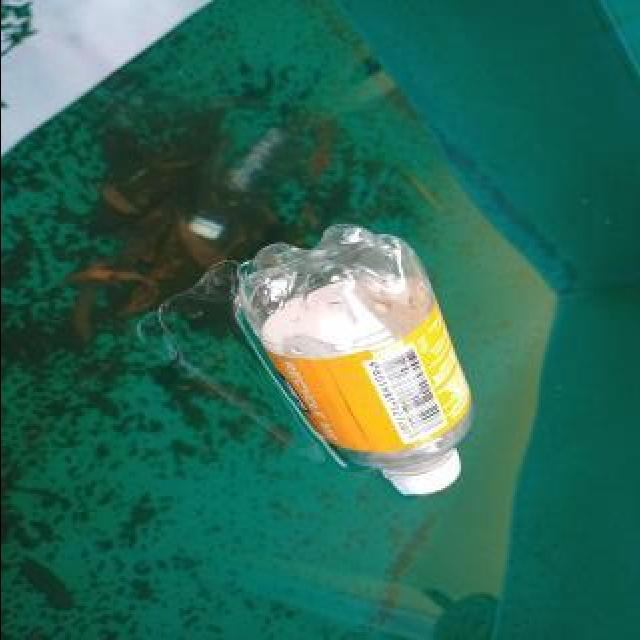Bottle: (228, 219, 486, 506)
